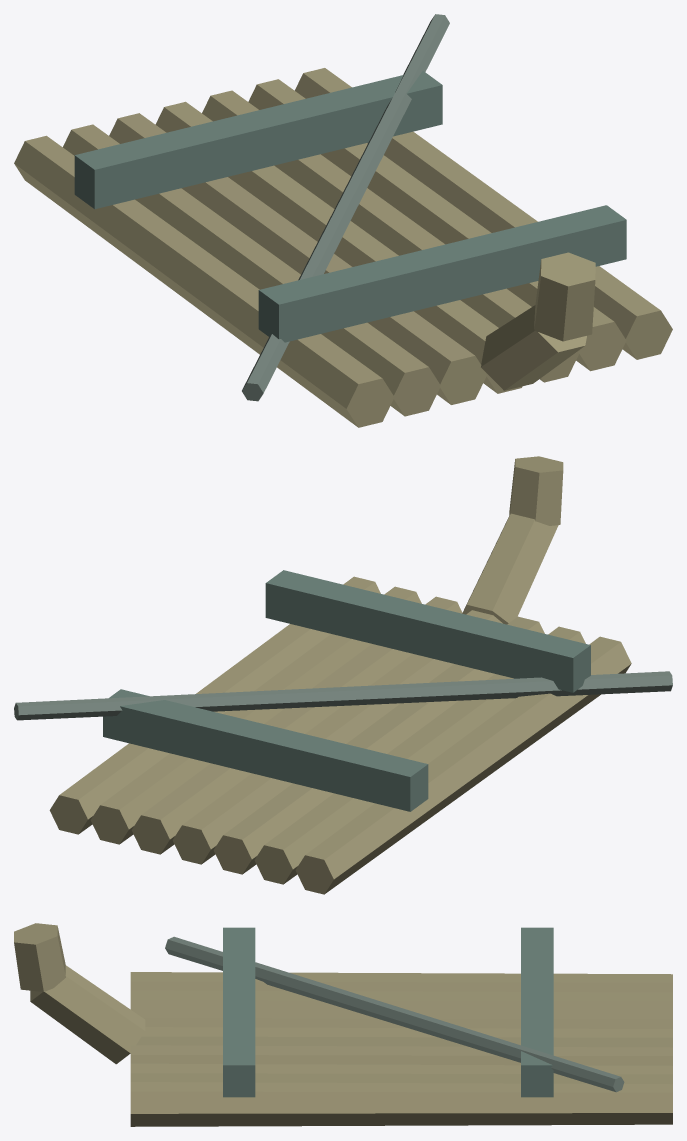
File: map-exclusive-v3__lake_05.glb
The picture shows the model from 3 angles, top to bottom: view 1: azimuth 30°, elevation 25°; view 2: azimuth 150°, elevation 25°; view 3: azimuth 270°, elevation 25°; orthographic projection. The views are drawn at different scales.
Visible parts, largest first — view 1: lake_05; view 2: lake_05; view 3: lake_05.
Boxes of the visible parts, box(x1,y1,x2,y2) form: lake_05: box(14, 14, 672, 427); lake_05: box(14, 456, 672, 894); lake_05: box(14, 923, 672, 1126).
Bounding box in the file's own units: 1.65 × 0.5545 × 2.43.
